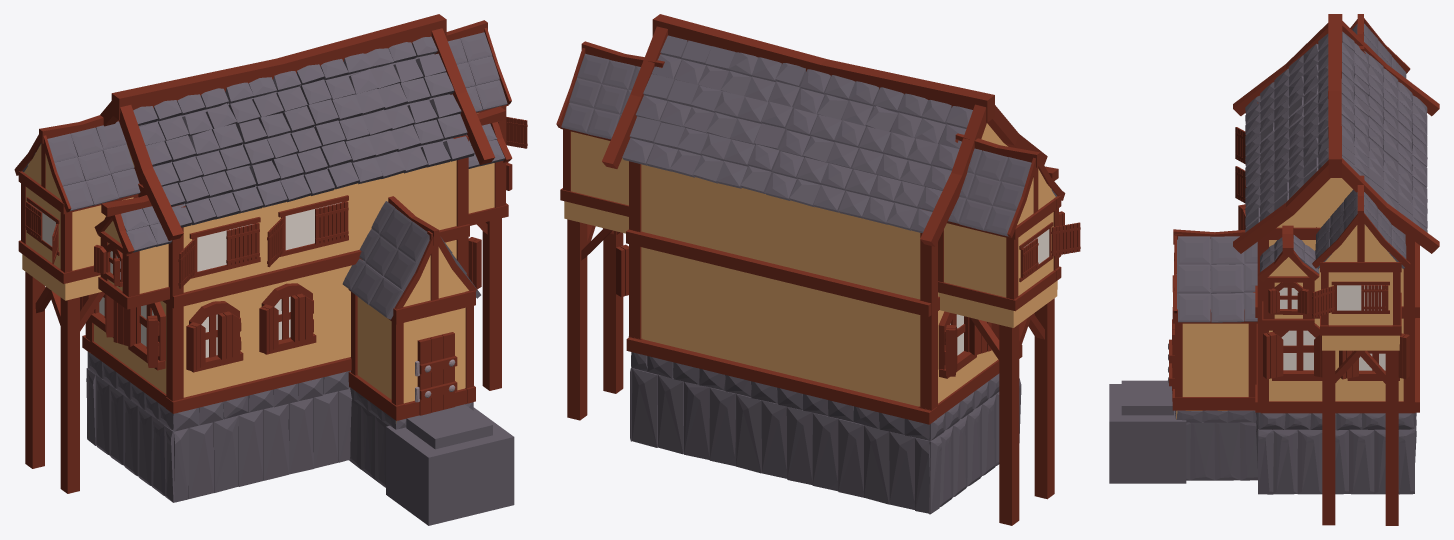
The model's file is House_of_commerce.fbx.
3 renders of one model, left to right at view 1: azimuth 30°, elevation 25°; view 2: azimuth 150°, elevation 25°; view 3: azimuth 270°, elevation 25°, orthographic. The views are drawn at different scales.
Parts seen in each view (by area): view 1: House_of_commerce; view 2: House_of_commerce; view 3: House_of_commerce.
Boxes of the visible parts, x1,y1,x2,y2 form: House_of_commerce: (14, 14, 527, 525); House_of_commerce: (556, 14, 1080, 525); House_of_commerce: (1109, 14, 1439, 525).
Bounding box in the file's own units: 429 × 646 × 499.
